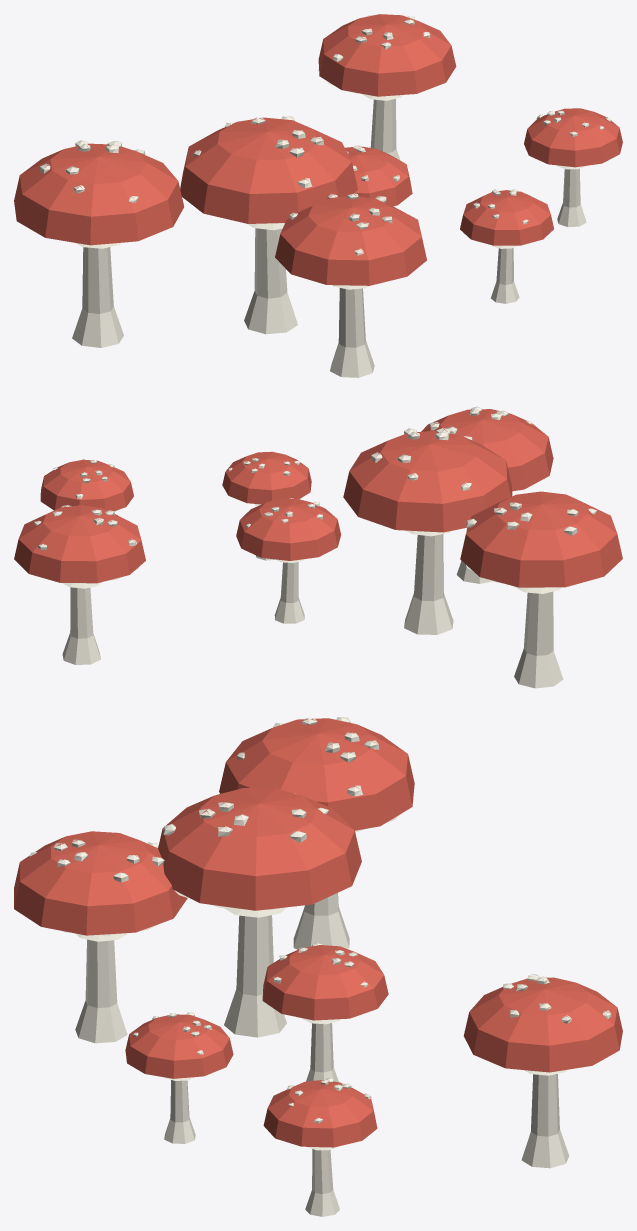
Rendered from temperate-forest-ecology-fly-agaric-group-b608df40__3862.glb.
3 views of the same model, one above another, from view 1: azimuth 30°, elevation 25°; view 2: azimuth 150°, elevation 25°; view 3: azimuth 270°, elevation 25° (orthographic). The views are drawn at different scales.
Visible parts, largest first — view 1: fly-agaric-group; view 2: fly-agaric-group; view 3: fly-agaric-group.
Boxes of the visible parts, left/top/right/bottom form: fly-agaric-group: left=14, top=14, right=622, bottom=377; fly-agaric-group: left=14, top=406, right=622, bottom=688; fly-agaric-group: left=14, top=717, right=622, bottom=1216.
Bounding box in the file's own units: 0.6863 × 0.2132 × 0.5308.
